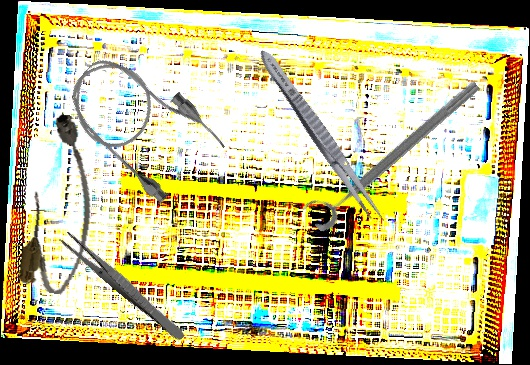Cannula: (52, 35, 232, 212), (15, 111, 109, 298)
Dressing Forceps: (252, 44, 391, 229), (57, 229, 189, 343)
Fixation Ring: (299, 66, 485, 235)
